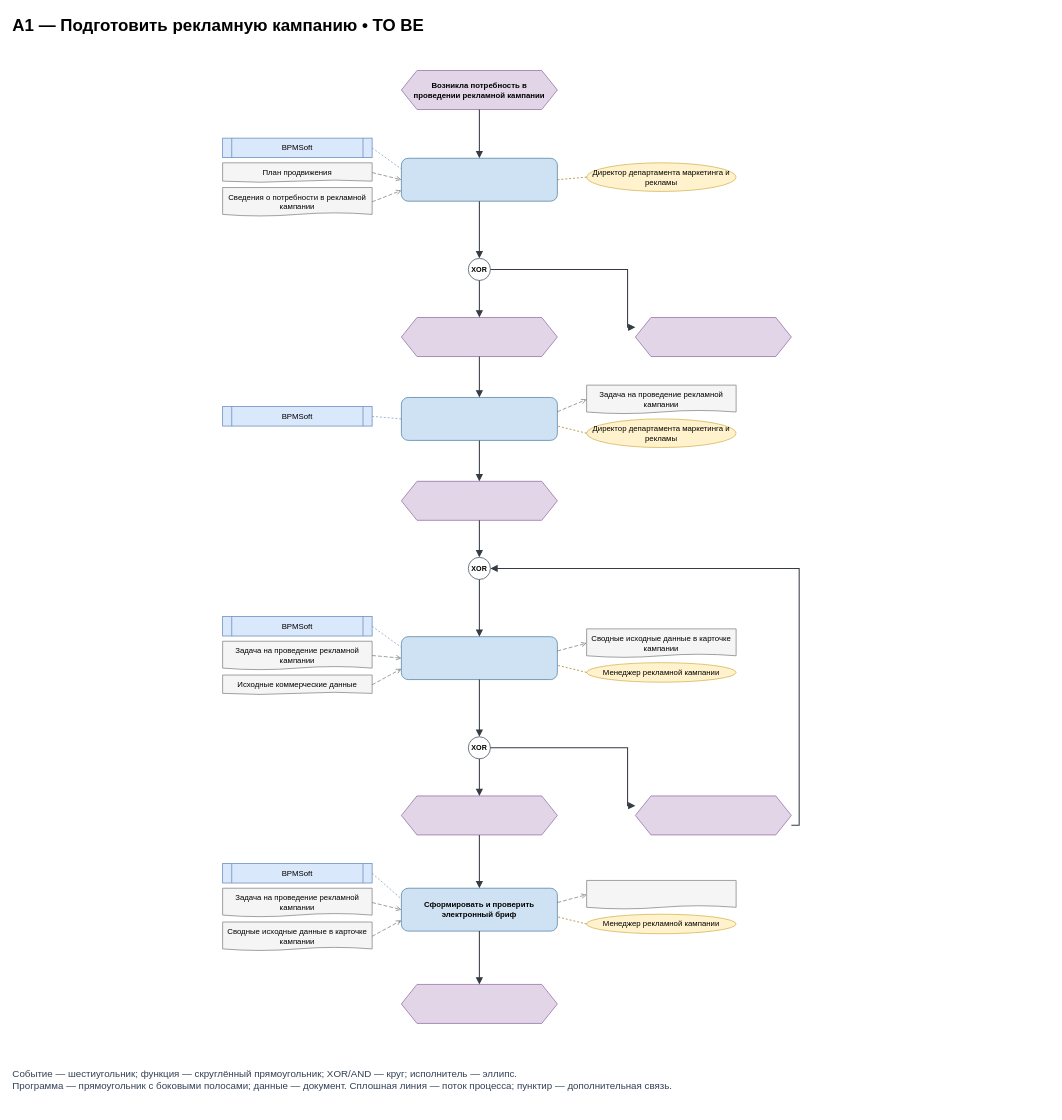
Some shapes in this 1062 by 1120 pixel diagram are drawn without their labels. The centre of each missing label's shape, as x and y in pixels:
"Бриф рекламной кампании сформирован" belongs at (x=479, y=1003).
"Задача на проведение кампании сформирована" belongs at (x=479, y=500).
"Исходные данные неполны или противоречивы" belongs at (x=713, y=815).
"Исходные данные полны и проверены" belongs at (x=479, y=815).
"Определить потребность в рекламной кампании" belongs at (x=479, y=179).
"Оформлено решение об отказе от проведения кампании" belongs at (x=713, y=337).
"Принято решение о проведении кампании" belongs at (x=479, y=337).
"Проверить и дополнить исходные данные в BPMSoft" belongs at (x=479, y=658).
"Создать карточку и назначить задачи в BPMSoft" belongs at (x=479, y=418).
"Электронный бриф рекламной кампании" belongs at (x=661, y=894).
